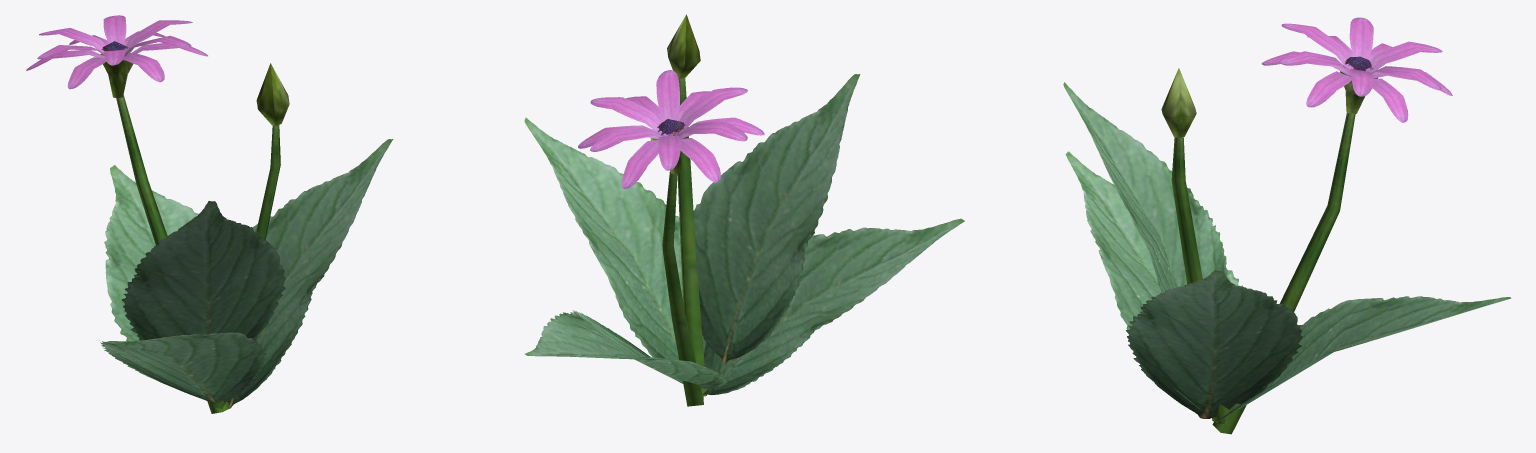
Rendered from pinkf1.fbx.
3 renders of one model, left to right at view 1: azimuth 30°, elevation 25°; view 2: azimuth 150°, elevation 25°; view 3: azimuth 270°, elevation 25°, orthographic. The views are drawn at different scales.
Parts seen in each view (by area): view 1: pinkf01; view 2: pinkf01; view 3: pinkf01.
Boxes of the visible parts, x1,y1,x2,y2 form: pinkf01: (26, 15, 393, 413); pinkf01: (524, 14, 964, 406); pinkf01: (1063, 17, 1511, 434).
Size of the model in its own units: 25.08 by 20.97 by 25.97.
